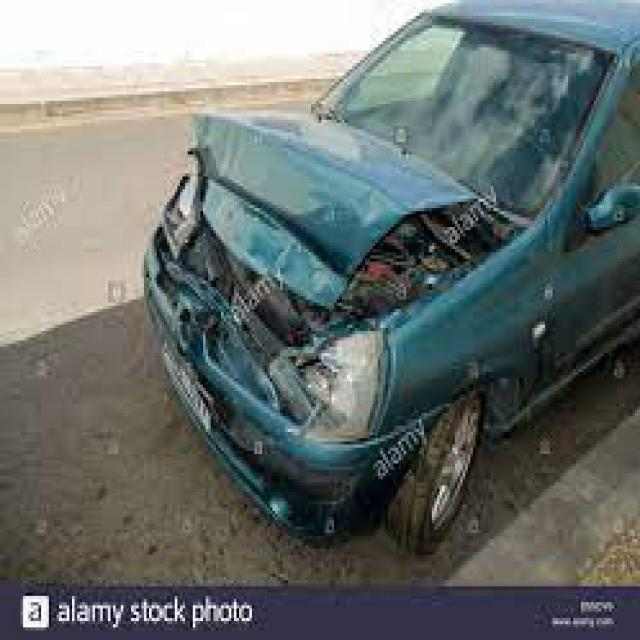Headlight-Damage: (288, 319, 396, 467)
bonnet-dent: (180, 114, 512, 303)
